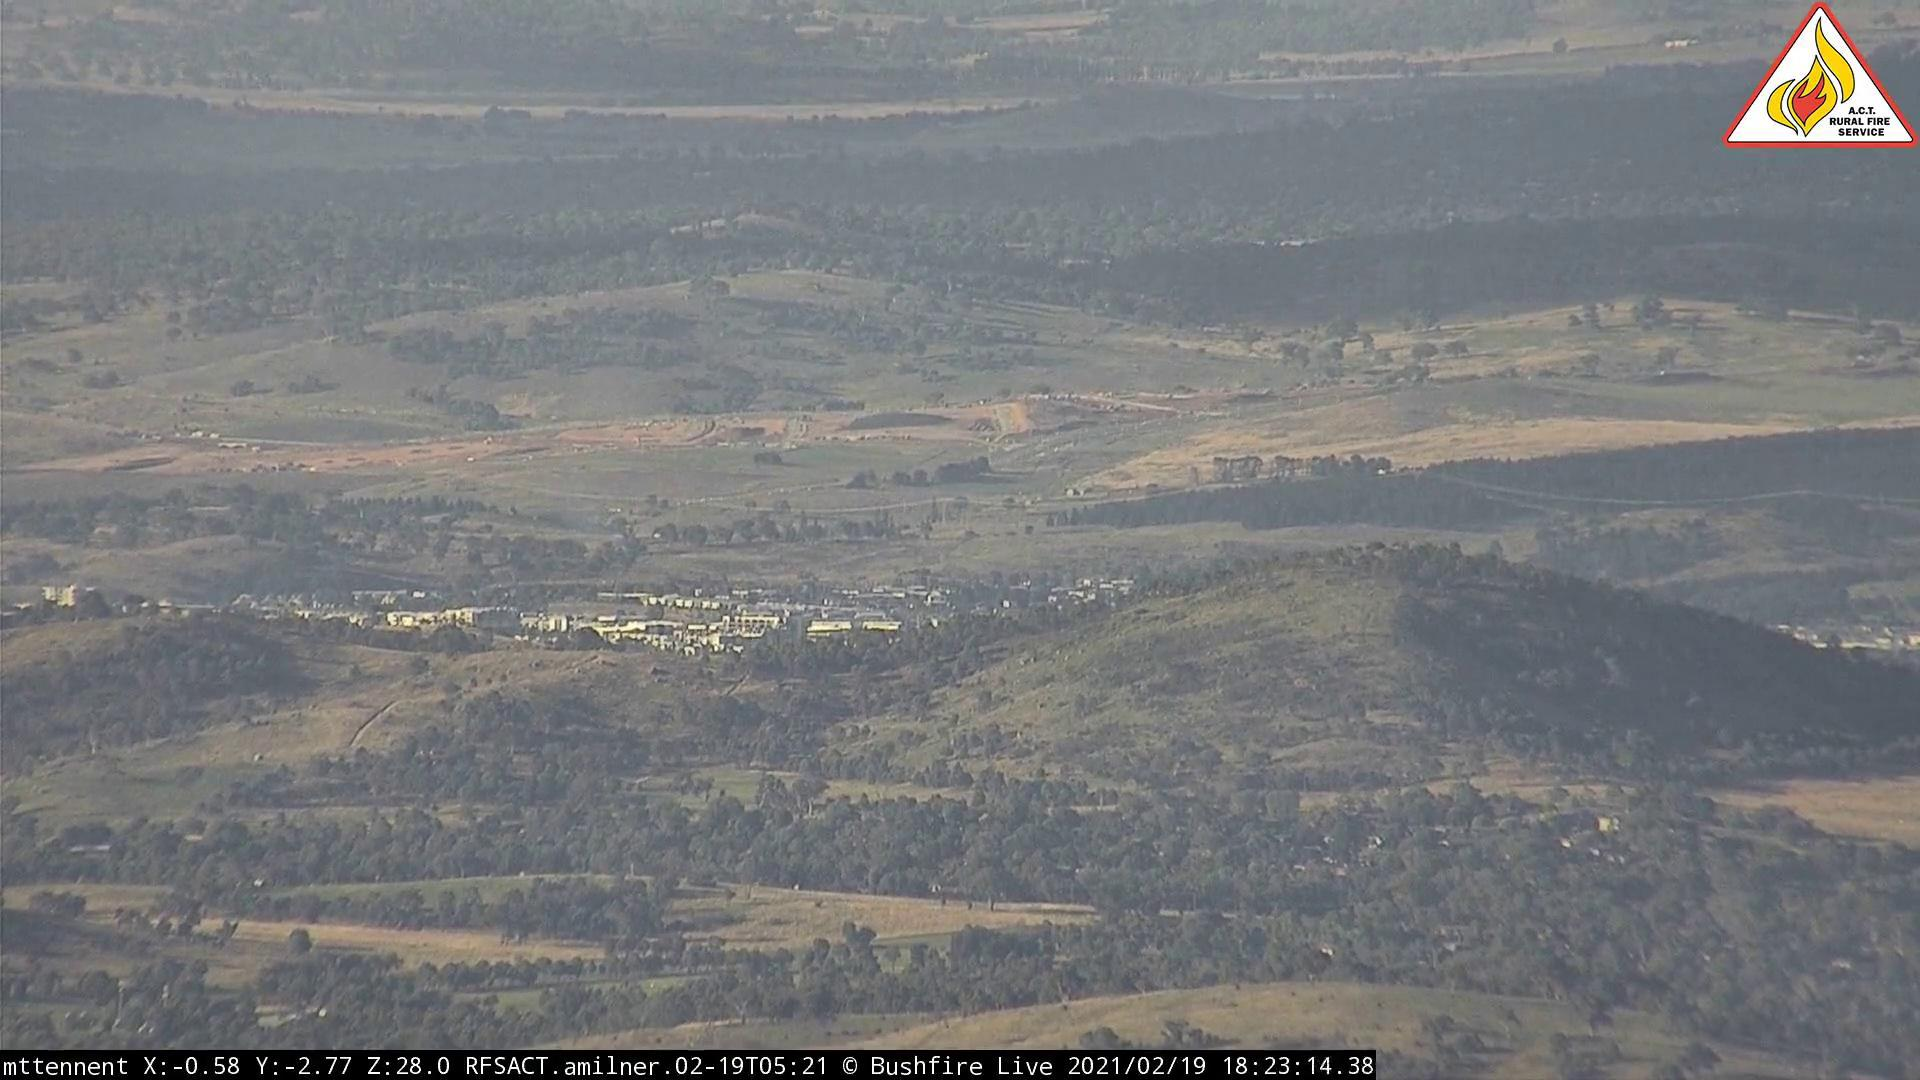Smoke: (632, 520, 673, 550)
